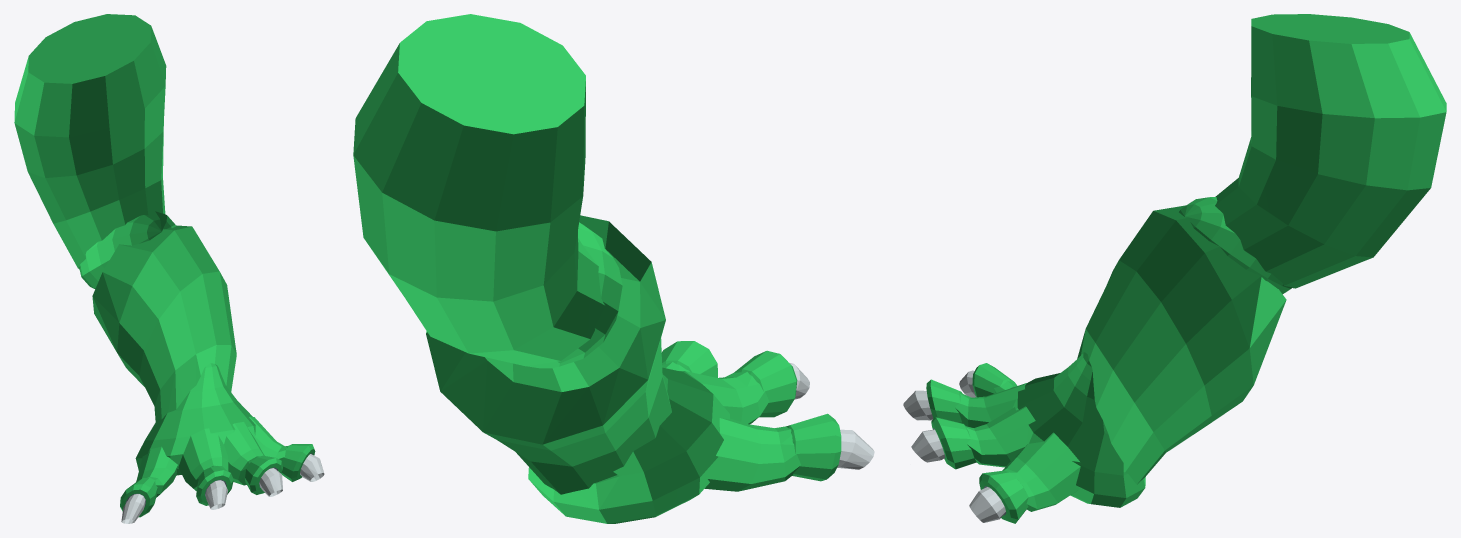
Rendered from Leg_Fixedl.fbx.
3 views of the same model, side by side, from view 1: azimuth 30°, elevation 25°; view 2: azimuth 150°, elevation 25°; view 3: azimuth 270°, elevation 25° (orthographic). The views are drawn at different scales.
Parts seen in each view (by area): view 1: group1832439925.975, group1236733959, group1335273033; view 2: group1832439925.975, group1236733959, group1335273033; view 3: group1832439925.975, group1236733959, group1335273033.
Boxes of the visible parts, left/top/right/bottom form: group1832439925.975: left=14, top=14, right=175, bottom=288; group1236733959: left=92, top=225, right=236, bottom=421; group1335273033: left=120, top=363, right=324, bottom=523; group1832439925.975: left=353, top=14, right=622, bottom=368; group1236733959: left=426, top=215, right=671, bottom=494; group1335273033: left=528, top=341, right=874, bottom=523; group1832439925.975: left=1179, top=14, right=1446, bottom=294; group1236733959: left=1077, top=205, right=1286, bottom=484; group1335273033: left=903, top=352, right=1145, bottom=523.
Bounding box in the file's own units: 0.3064 × 0.5348 × 0.5515.
